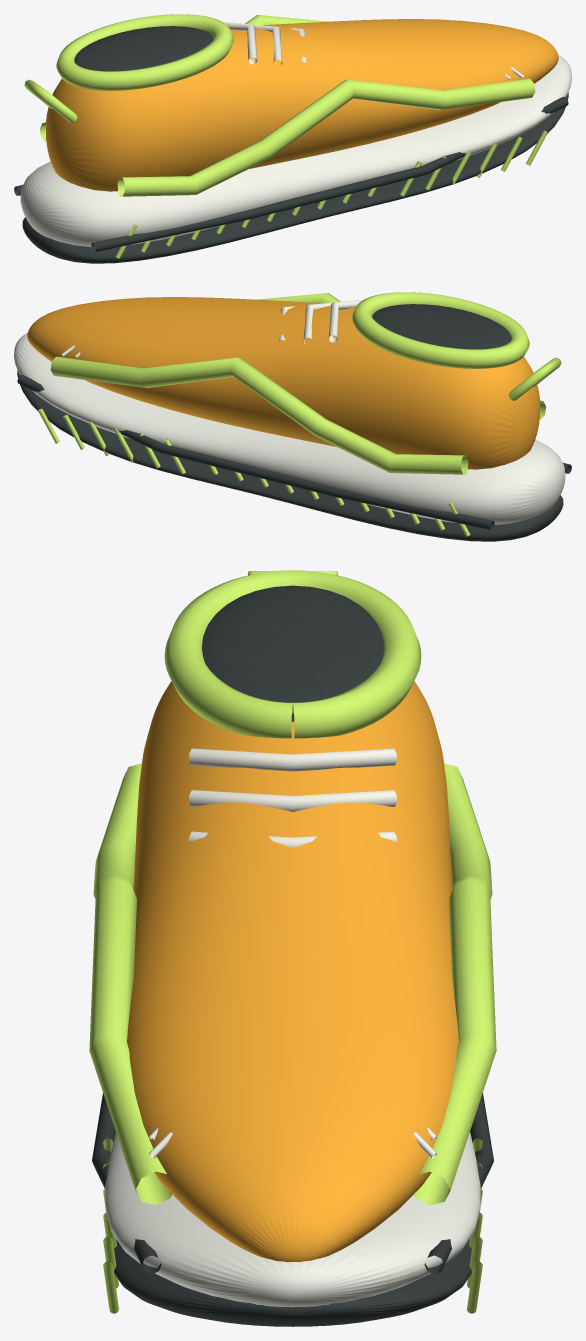
The picture shows the model from 3 angles, top to bottom: view 1: azimuth 30°, elevation 25°; view 2: azimuth 150°, elevation 25°; view 3: azimuth 270°, elevation 25°; orthographic projection. The views are drawn at different scales.
Parts seen in each view (by area): view 1: c202 optimized runtime mesh; view 2: c202 optimized runtime mesh; view 3: c202 optimized runtime mesh.
Boxes of the visible parts, <box> form: c202 optimized runtime mesh: <box>14,14,571,263</box>; c202 optimized runtime mesh: <box>14,292,571,541</box>; c202 optimized runtime mesh: <box>89,570,496,1326</box>.
Size of the model in its own units: 2.98 by 1.04 by 0.9796.
